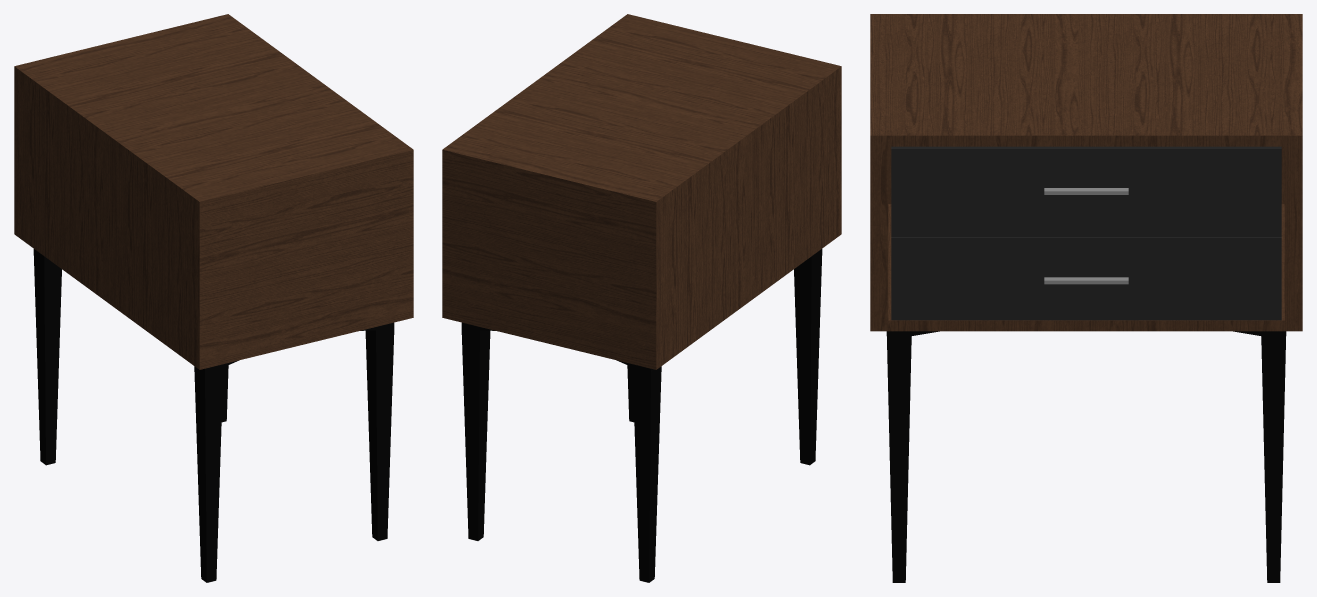
Rendered from Side Table 2.glb.
3 renders of one model, left to right at view 1: azimuth 30°, elevation 25°; view 2: azimuth 150°, elevation 25°; view 3: azimuth 270°, elevation 25°, orthographic. The views are drawn at different scales.
Visible parts, largest first — view 1: Side Table 3 Wood 1; view 2: Side Table 3 Wood 1; view 3: Side Table 3 Wood 1.
Boxes of the visible parts, x1,y1,x2,y2 form: Side Table 3 Wood 1: (14,14,413,582); Side Table 3 Wood 1: (442,14,841,582); Side Table 3 Wood 1: (870,14,1302,582).
Size of what is drawn, in the model's own units: 0.6311 by 1.07 by 0.9144.
Materials: 2 (2 with a texture image).
